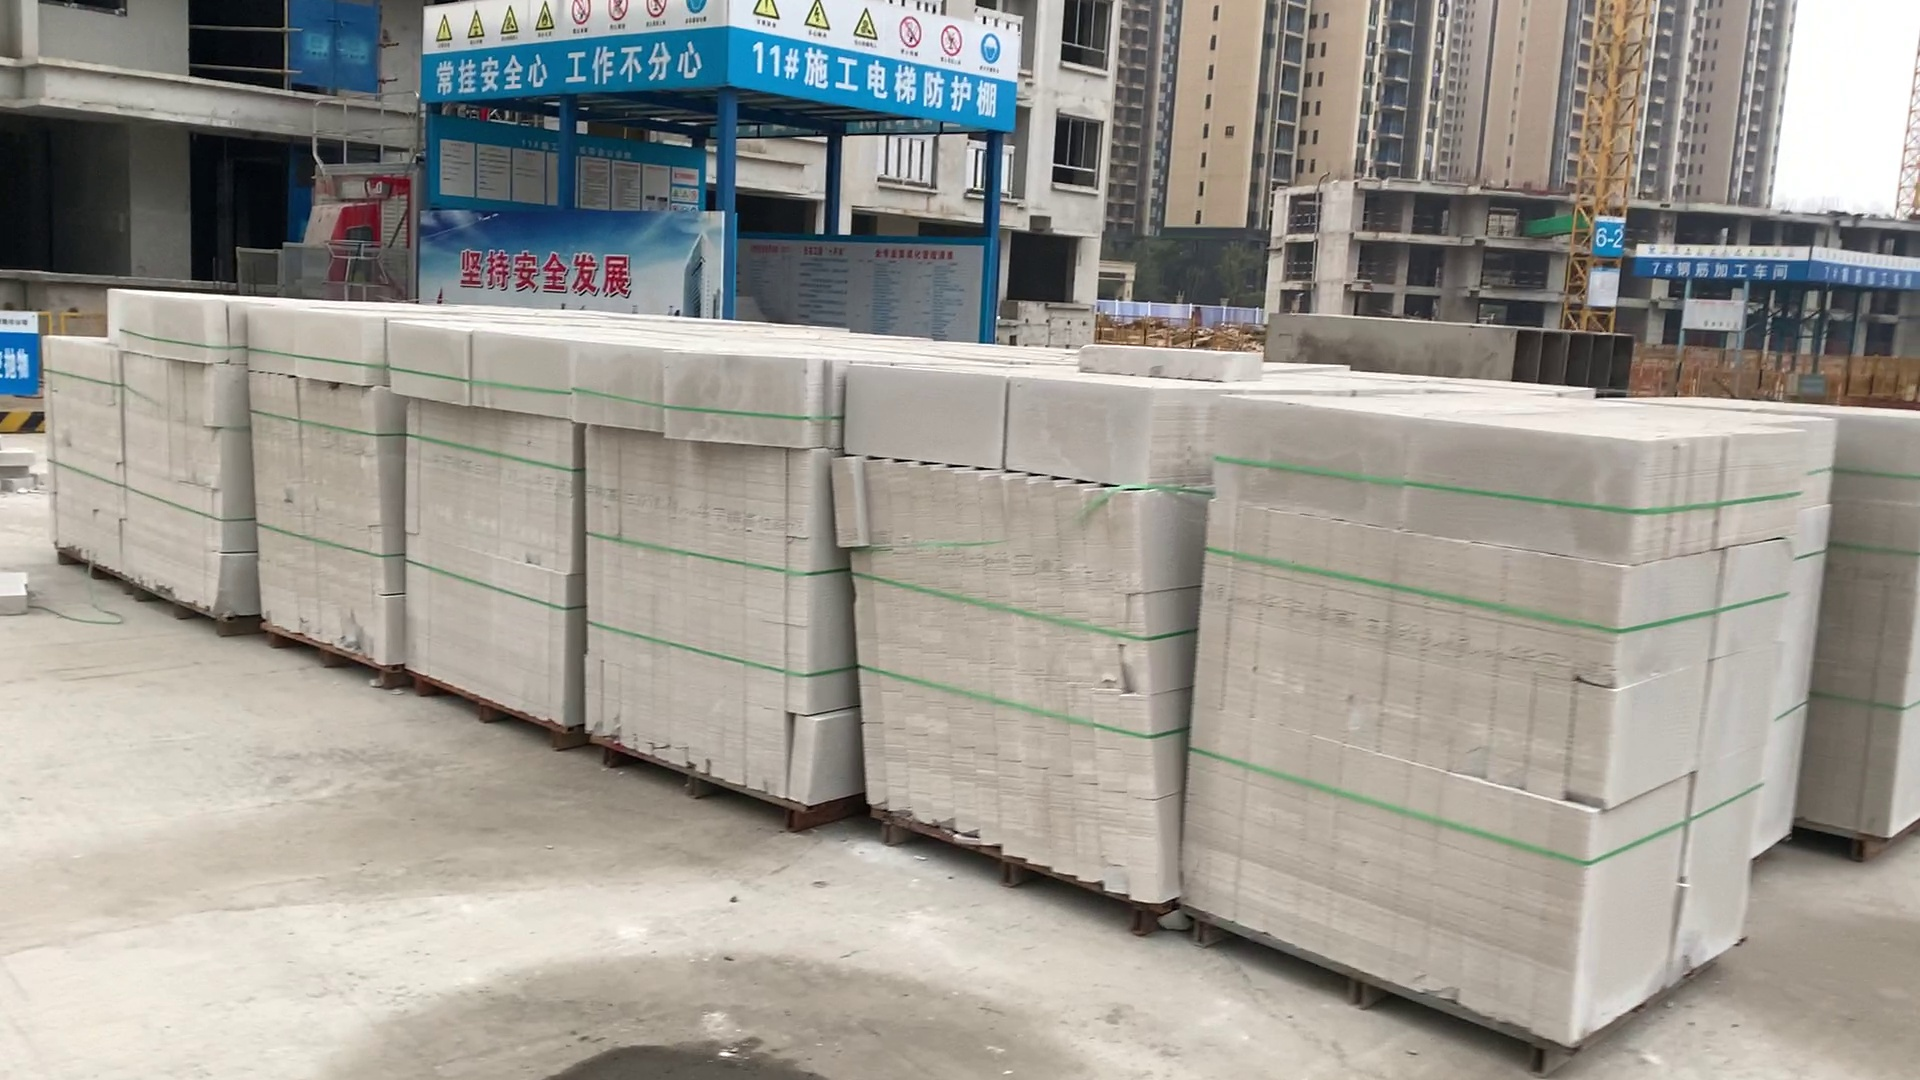brickwork: (1192, 396, 1753, 1018), (833, 372, 1182, 905), (572, 345, 829, 789), (392, 319, 579, 731), (235, 305, 407, 669), (1807, 410, 1920, 860), (138, 298, 233, 618), (38, 334, 123, 580)
